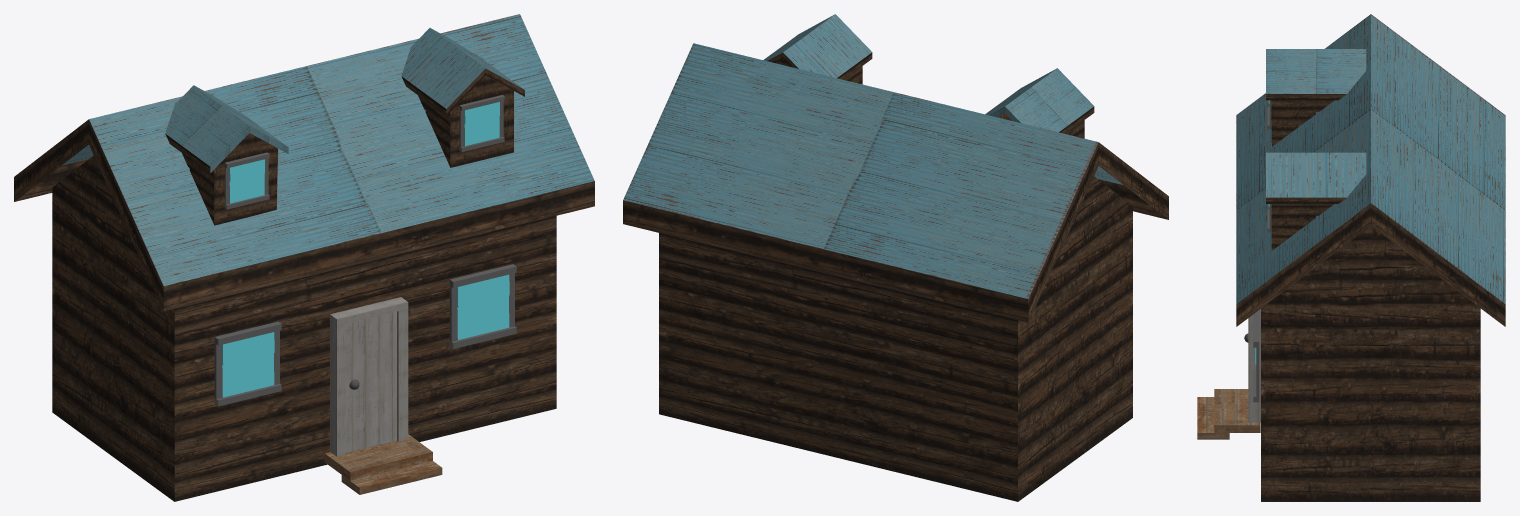
File: House1FINISHED.fbx
3 renders of one model, left to right at view 1: azimuth 30°, elevation 25°; view 2: azimuth 150°, elevation 25°; view 3: azimuth 270°, elevation 25°, orthographic. The views are drawn at different scales.
Visible parts, largest first — view 1: polySurface1, polySurface2, Door, Right, Left, pCube7, pCube8, Steps, pCube9, pCube10; view 2: polySurface1, polySurface2, Left, Right; view 3: polySurface1, polySurface2, Right, Left, Steps, Door, pCube8.
Part boxes in pixels (x1=…): polySurface1: x1=52, y1=155, x2=556, y2=501; polySurface2: x1=14, y1=14, x2=594, y2=311; Door: x1=330, y1=297, x2=408, y2=456; Right: x1=401, y1=28, x2=524, y2=167; Left: x1=165, y1=85, x2=288, y2=225; pCube7: x1=214, y1=321, x2=281, y2=406; pCube8: x1=449, y1=264, x2=516, y2=348; Steps: x1=324, y1=434, x2=442, y2=494; pCube9: x1=224, y1=152, x2=269, y2=209; pCube10: x1=459, y1=95, x2=504, y2=151; polySurface1: x1=659, y1=176, x2=1132, y2=501; polySurface2: x1=623, y1=43, x2=1168, y2=322; Left: x1=985, y1=68, x2=1094, y2=138; Right: x1=763, y1=14, x2=872, y2=84; polySurface1: x1=1261, y1=226, x2=1480, y2=501; polySurface2: x1=1236, y1=14, x2=1505, y2=326; Right: x1=1266, y1=152, x2=1366, y2=250; Left: x1=1266, y1=49, x2=1366, y2=146; Steps: x1=1197, y1=389, x2=1260, y2=439; Door: x1=1248, y1=309, x2=1260, y2=422; pCube8: x1=1253, y1=314, x2=1259, y2=402.
Bounding box in the file's own units: 400 × 318 × 275.
Materials: 6 (1 with a texture image).
